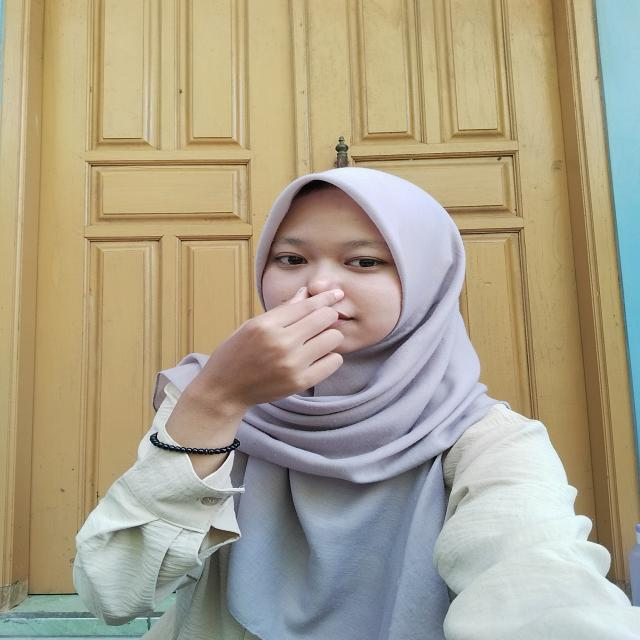bau: (194, 273, 358, 414)
